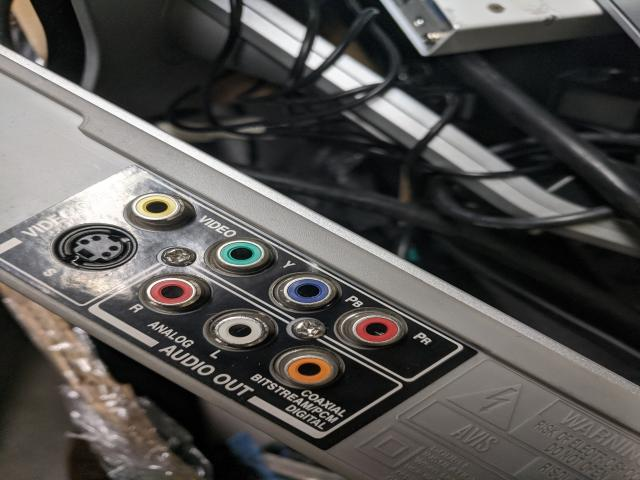CRS: (292, 316, 327, 342), (158, 246, 198, 268)
